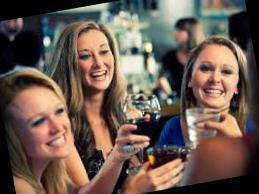Drunk: (12, 88, 73, 158), (194, 47, 238, 108), (74, 32, 113, 89)
